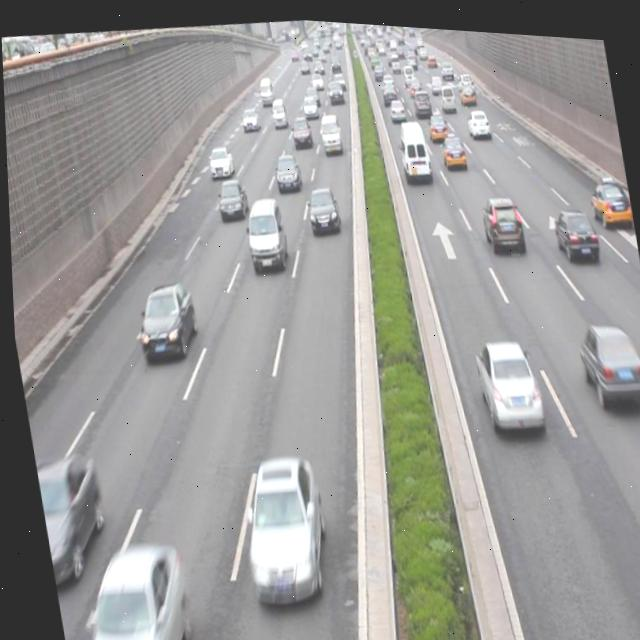car: (227, 446, 333, 610), (67, 543, 192, 640), (31, 453, 107, 577), (468, 328, 543, 436), (569, 306, 640, 412), (128, 279, 200, 360), (240, 192, 292, 278), (474, 187, 524, 251), (583, 164, 632, 224), (547, 200, 596, 257), (300, 179, 341, 236), (213, 173, 249, 224), (270, 147, 300, 192), (205, 138, 235, 181), (438, 123, 466, 169)
truck: (393, 112, 432, 181)
